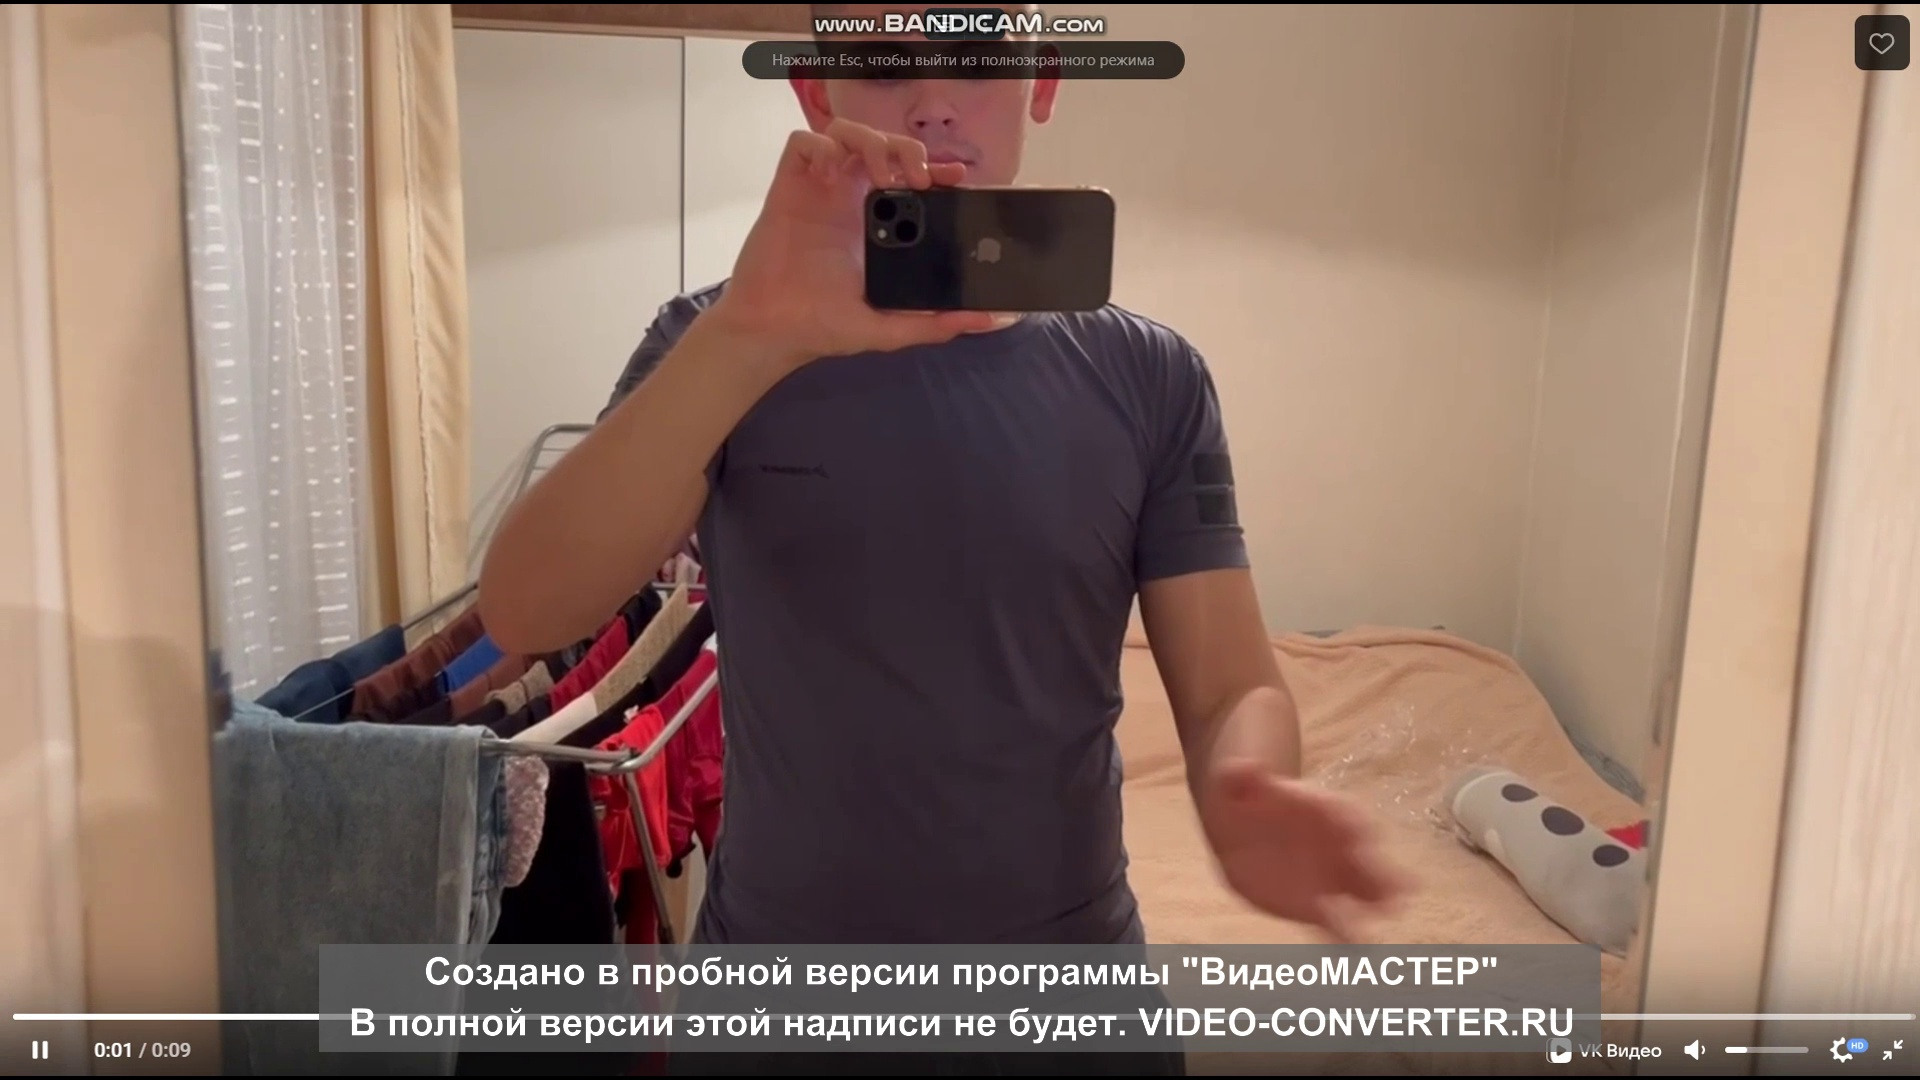Ладонь: (1199, 756, 1424, 942)
